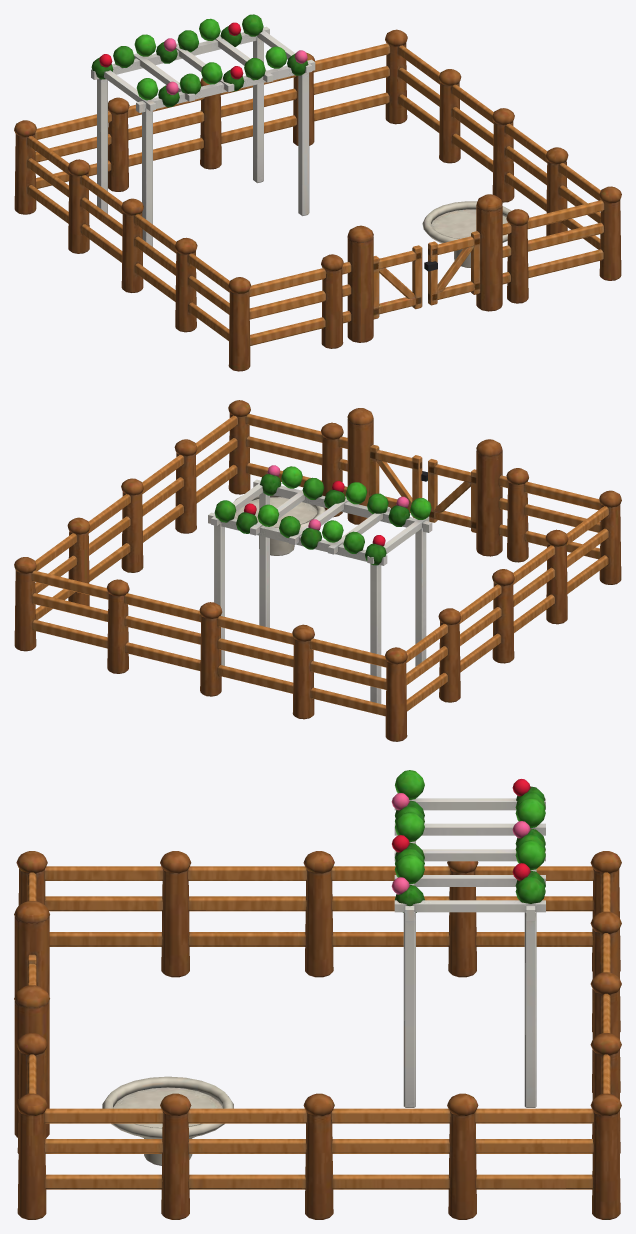
File: white_peacock_garden.glb
3 views of the same model, one above another, from view 1: azimuth 30°, elevation 25°; view 2: azimuth 150°, elevation 25°; view 3: azimuth 270°, elevation 25° (orthographic). The views are drawn at different scales.
Parts seen in each view (by area): view 1: white_peacock_garden, gate1, gate0; view 2: white_peacock_garden, gate0, gate1; view 3: white_peacock_garden.
Part boxes in pixels (x1=…): white_peacock_garden: x1=14, y1=14, x2=621, y2=371; gate1: x1=424, y1=231, x2=480, y2=305; gate0: x1=373, y1=245, x2=422, y2=319; white_peacock_garden: x1=14, y1=400, x2=621, y2=741; gate0: x1=428, y1=459, x2=476, y2=532; gate1: x1=370, y1=444, x2=427, y2=517; white_peacock_garden: x1=14, y1=770, x2=621, y2=1219.
Bounding box in the file's own units: 2 × 0.85 × 2.01.
Materials: 1 (1 with a texture image).
